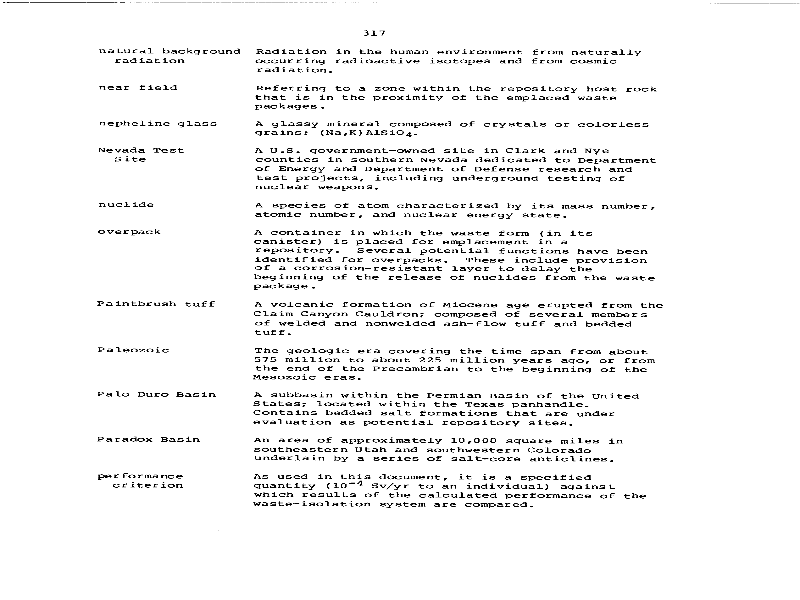table: (96, 38, 669, 519)
